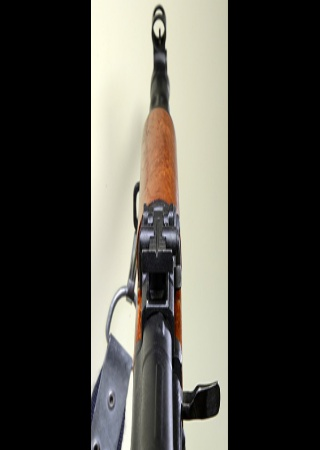rifle: (114, 8, 220, 449)
